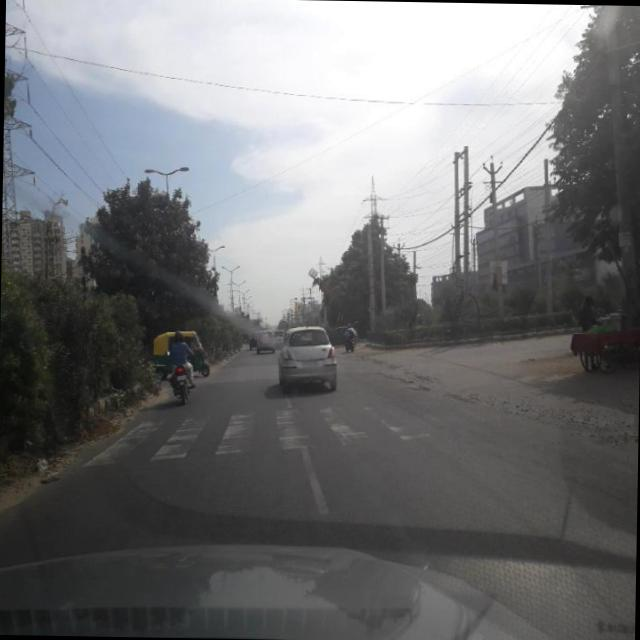crack: (18, 448, 632, 558)
